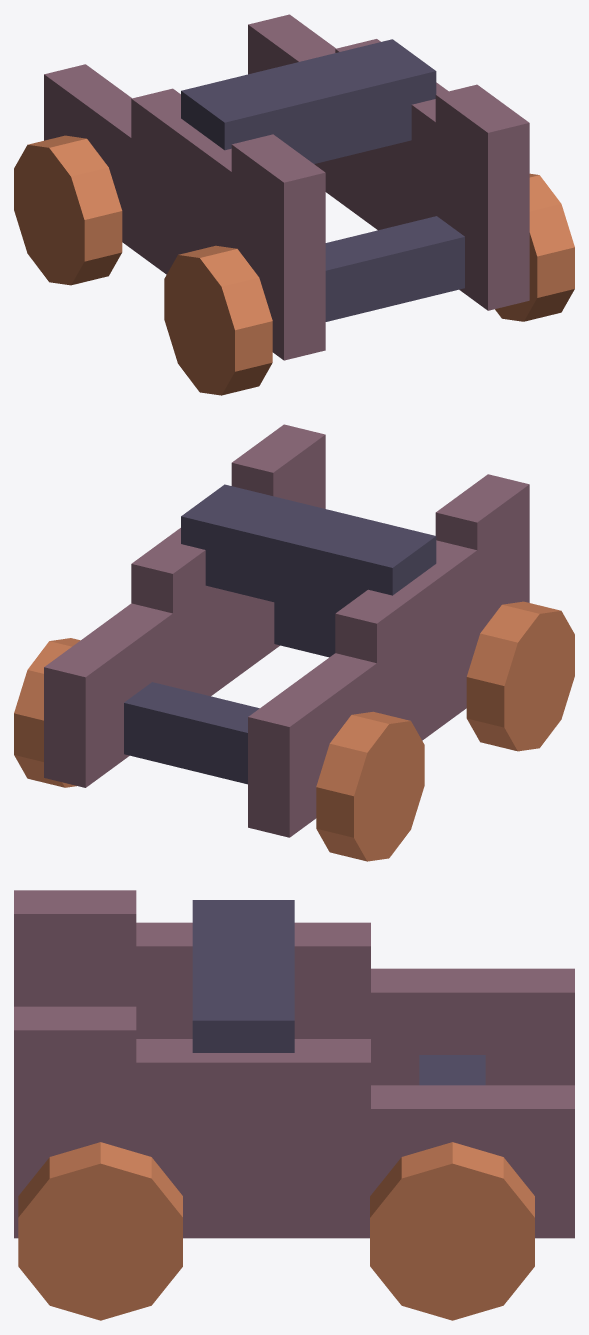
File: carriage.glb
The picture shows the model from 3 angles, top to bottom: view 1: azimuth 30°, elevation 25°; view 2: azimuth 150°, elevation 25°; view 3: azimuth 270°, elevation 25°; orthographic projection. The views are drawn at different scales.
Visible parts, largest first — view 1: Carriage; view 2: Carriage; view 3: Carriage.
Boxes of the visible parts, left/top/right/bottom form: Carriage: left=14, top=14, right=574, bottom=395; Carriage: left=14, top=424, right=574, bottom=861; Carriage: left=14, top=890, right=574, bottom=1320.
Size of the model in its own units: 0.9 by 0.57 by 1.1.
